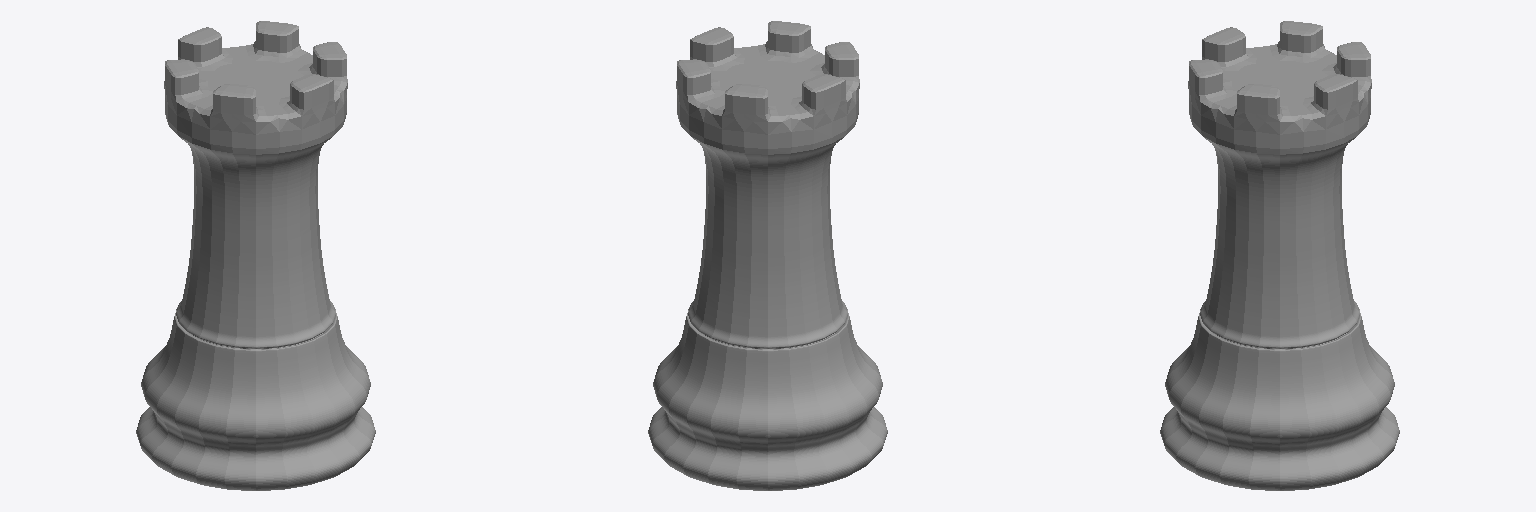
File: rook.obj
3 views of the same model, side by side, from view 1: azimuth 30°, elevation 25°; view 2: azimuth 150°, elevation 25°; view 3: azimuth 270°, elevation 25° (orthographic).
Parts seen in each view (by area): view 1: mesh01.004; view 2: mesh01.004; view 3: mesh01.004.
Boxes of the visible parts, x1,y1,x2,y2 form: mesh01.004: [136, 21, 375, 490]; mesh01.004: [648, 21, 887, 490]; mesh01.004: [1160, 21, 1399, 490].
Bounding box in the file's own units: 13.12 × 23.88 × 13.12.